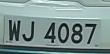0: (57, 21, 71, 46)
4: (42, 19, 57, 47)
7: (84, 22, 98, 46)
8: (70, 22, 84, 45)
J: (21, 19, 37, 44)
W: (7, 19, 22, 43)
